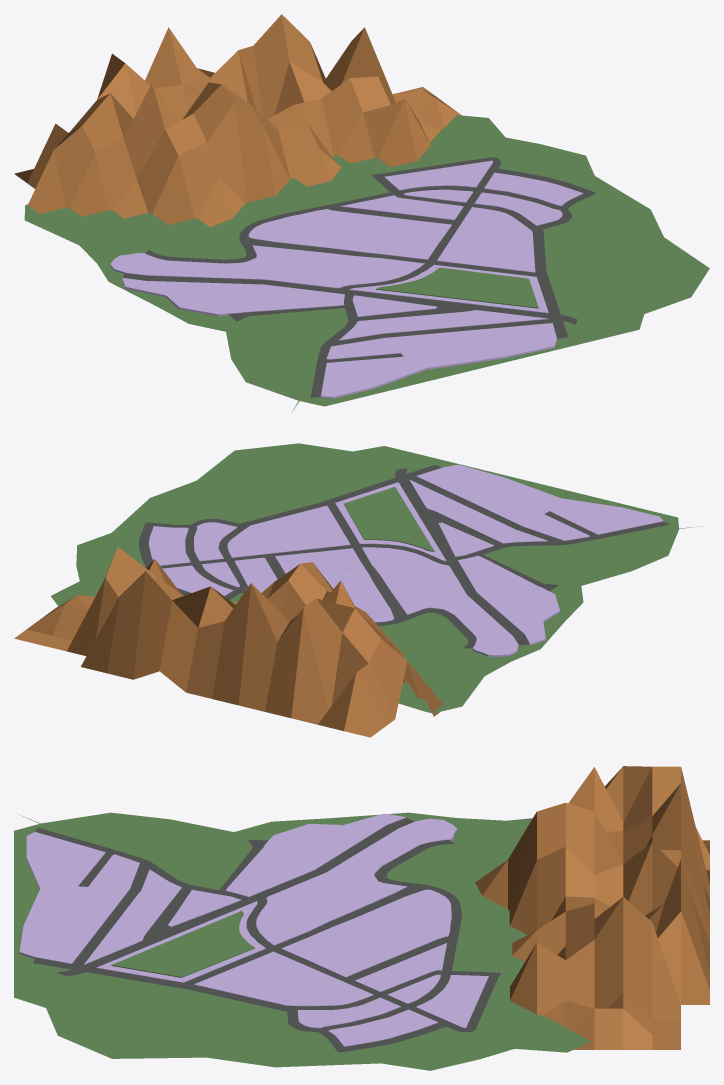
Rendered from TesteRafa.fbx.
3 renders of one model, top to bottom at view 1: azimuth 30°, elevation 25°; view 2: azimuth 150°, elevation 25°; view 3: azimuth 270°, elevation 25°, orthographic. The views are drawn at different scales.
Parts seen in each view (by area): view 1: Mountains, Base Plane For map, Curb Area 3.001, Roads, Curb Area 13, Curb Area 14, Curb Area 9, Park Area, Curb Area 12, Extra road, Curb Area 6, Curb Area 10 (+5 smaller); view 2: Mountains, Base Plane For map, Roads, Curb Area 3.001, Curb Area 13, Curb Area 14, Curb Area 9, Park Area, Curb Area 12, Extra road, Curb Area 10, Curb Area 7 (+5 smaller); view 3: Base Plane For map, Mountains, Curb Area 3.001, Roads, Curb Area 13, Curb Area 14, Curb Area 9, Park Area, Curb Area 12, Extra road, Curb Area 6, Curb Area 7 (+5 smaller).
Boxes of the visible parts, x1,y1,x2,y2 form: Mountains: [14, 14, 461, 227]; Base Plane For map: [24, 115, 709, 411]; Curb Area 3.001: [110, 209, 451, 288]; Roads: [122, 157, 595, 397]; Curb Area 13: [321, 323, 556, 398]; Curb Area 14: [122, 277, 344, 315]; Curb Area 9: [437, 207, 535, 272]; Park Area: [376, 267, 538, 308]; Curb Area 12: [338, 310, 548, 340]; Extra road: [371, 173, 567, 338]; Curb Area 6: [384, 160, 492, 190]; Curb Area 10: [349, 264, 548, 313]; Mountains: [14, 547, 442, 737]; Base Plane For map: [51, 443, 705, 713]; Roads: [138, 468, 670, 648]; Curb Area 3.001: [275, 547, 518, 656]; Curb Area 13: [416, 464, 663, 540]; Curb Area 14: [458, 555, 559, 645]; Curb Area 9: [227, 505, 350, 557]; Park Area: [344, 487, 434, 551]; Curb Area 12: [409, 479, 548, 543]; Extra road: [218, 465, 441, 599]; Curb Area 10: [335, 482, 446, 561]; Curb Area 7: [148, 526, 190, 565]; Base Plane For map: [14, 812, 590, 1070]; Mountains: [475, 766, 709, 1049]; Curb Area 3.001: [256, 818, 457, 977]; Roads: [35, 817, 499, 1052]; Curb Area 13: [19, 832, 139, 964]; Curb Area 14: [226, 813, 406, 897]; Curb Area 9: [194, 951, 373, 1006]; Park Area: [111, 910, 254, 977]; Curb Area 12: [84, 869, 181, 964]; Extra road: [33, 957, 500, 1012]; Curb Area 6: [416, 975, 488, 1028]; Curb Area 7: [328, 1009, 438, 1046].
Bounding box in the file's own units: 90080 × 22558 × 102588.
